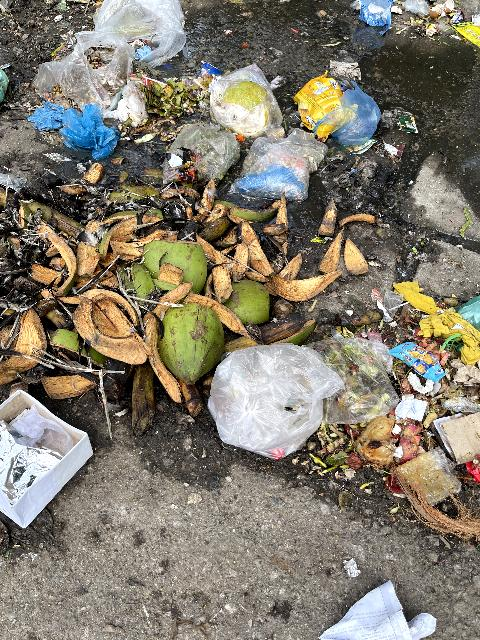polythene: (227, 355, 348, 442), (227, 124, 323, 202)
